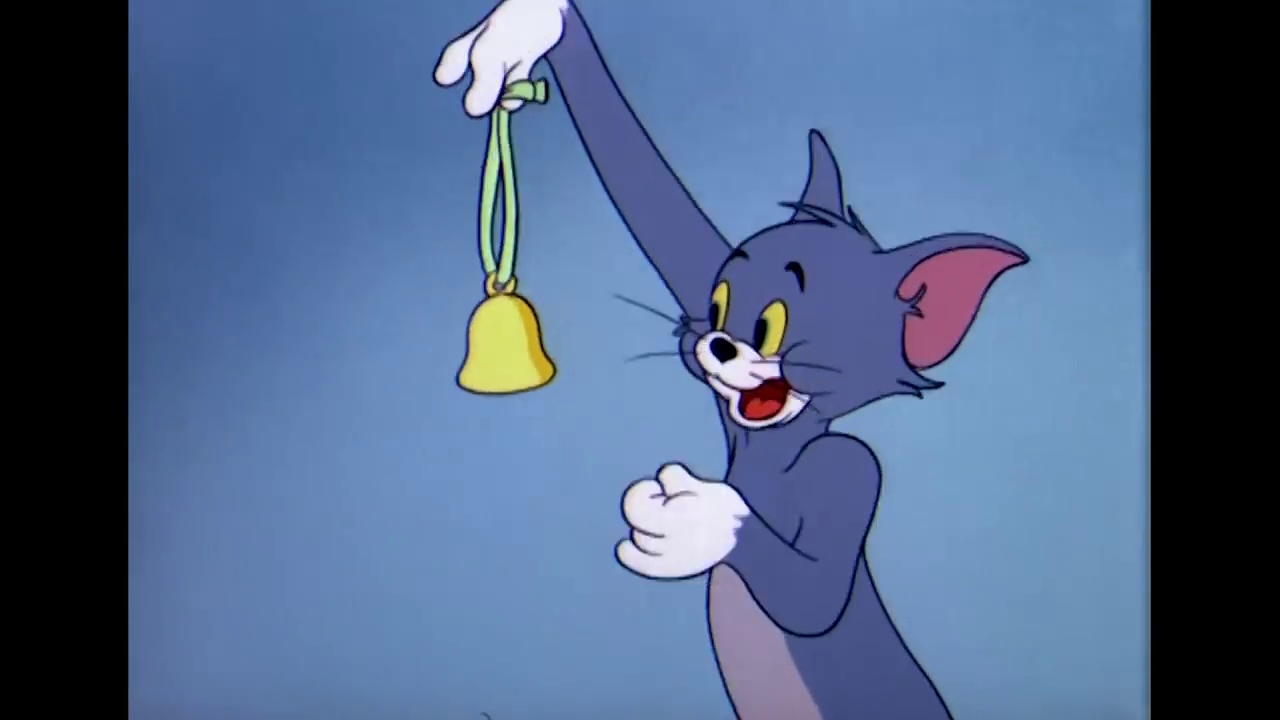tom: (667, 122, 1030, 446)
